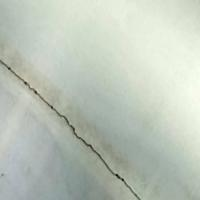crack: (2, 50, 145, 199)
